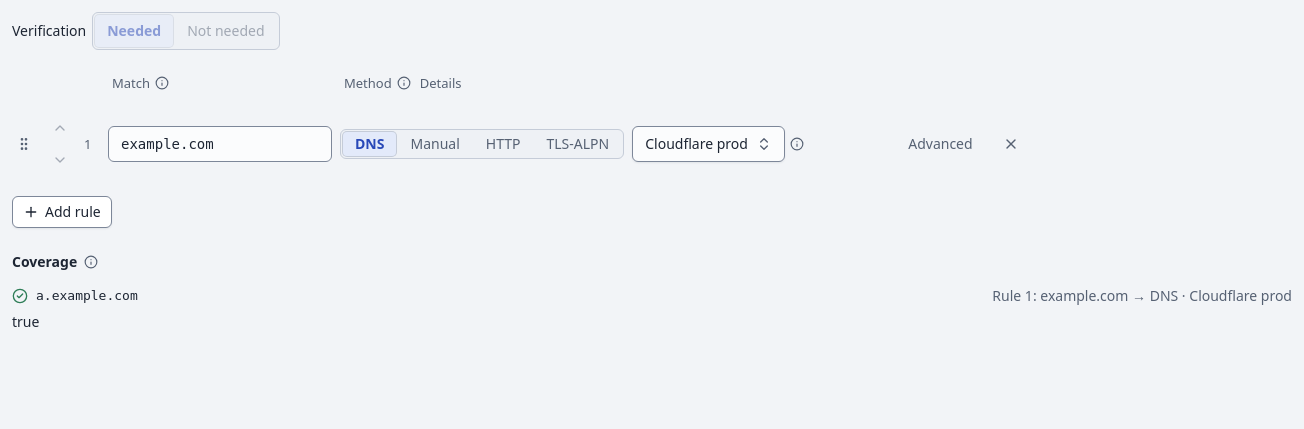
it: moving a rule up with the keyboard changes which one covers a name (first match wins)
expect the field named "Rule 1 match" holds "example.com": met, box [108,126,332,162]
Click the button "Add rule" at (62, 212), box [12,196,112,228]
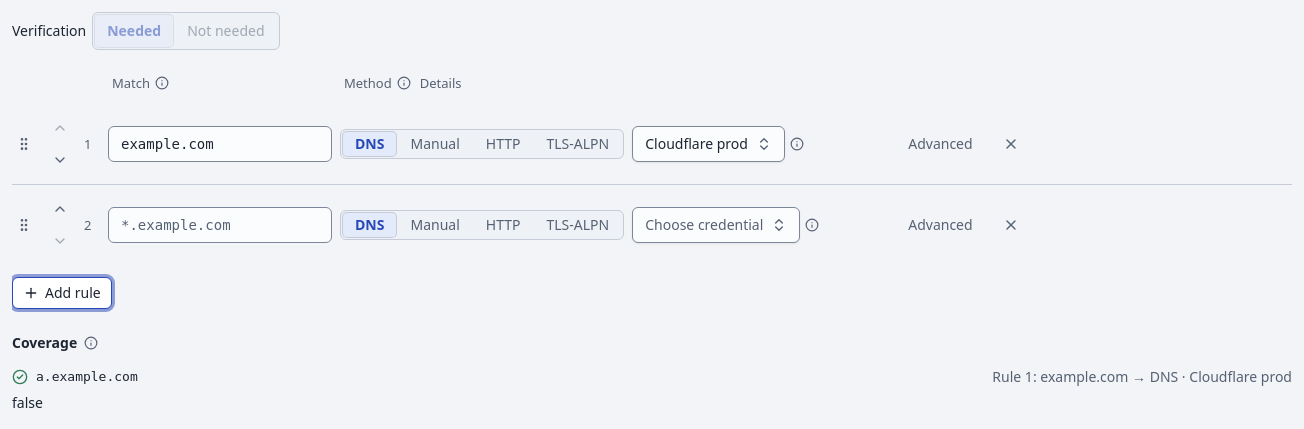
Type "a.example.com" into the field named "Rule 2 match" at (220, 225), box [108,207,332,243]
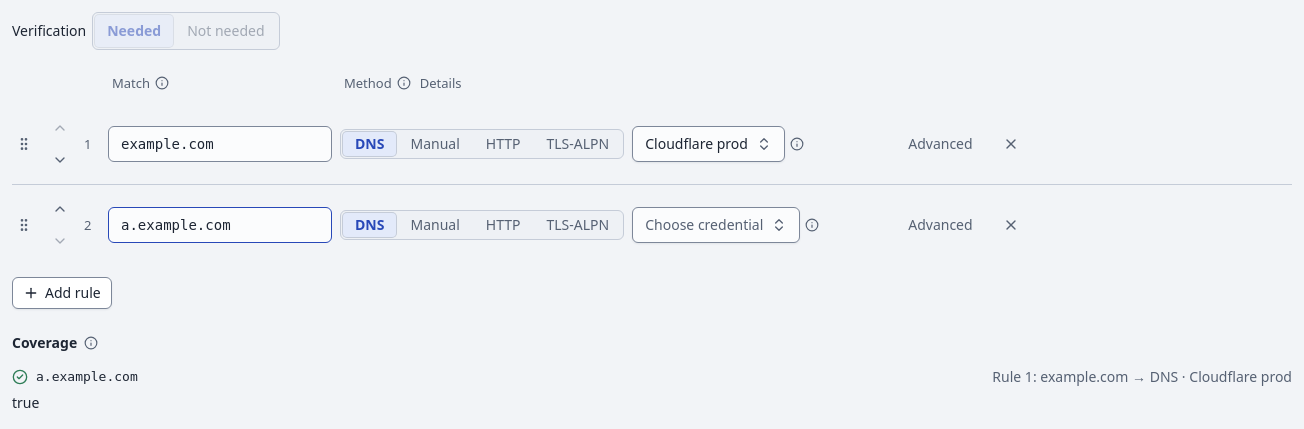
expect the list item "a.example.com Rule 1: example.com → DNS · Cloudflare prod" is shown: met, box [12,367,1292,386]
expect the text with test id "ready" reads "true": met, box [12,393,39,412]
Click the button named "Move rule 2 up" at (60, 209), box [44,193,76,225]
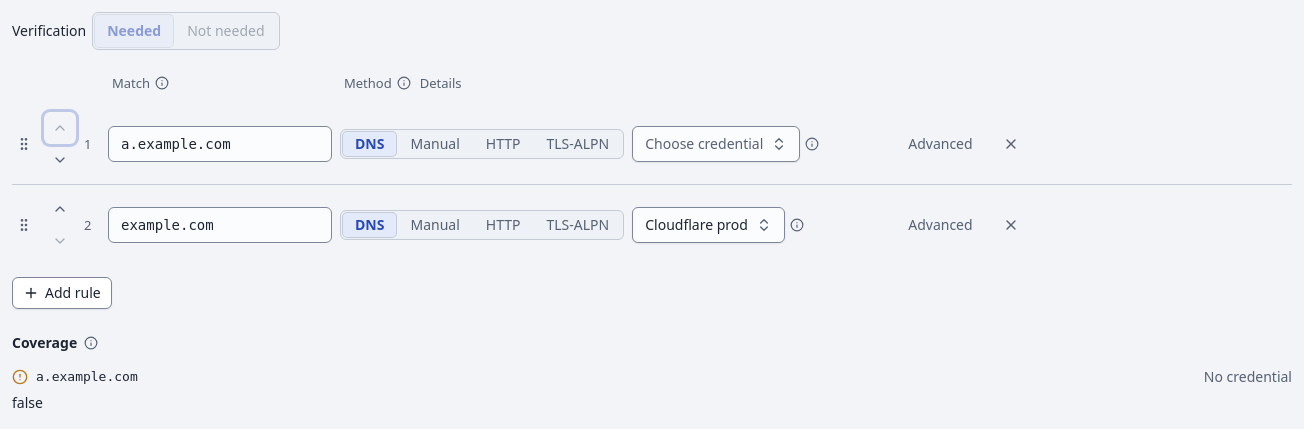
expect the list item "a.example.com No credential" is shown: met, box [12,367,1292,386]
expect the text with test id "ready" reads "false": met, box [12,393,43,412]
